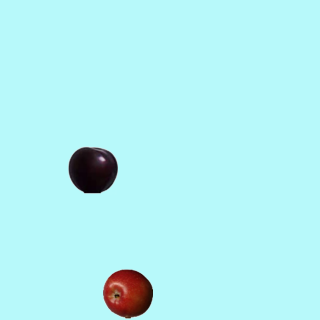Apple Braeburn: (102, 268, 152, 318)
Cherry Wax Black: (67, 144, 117, 194)
